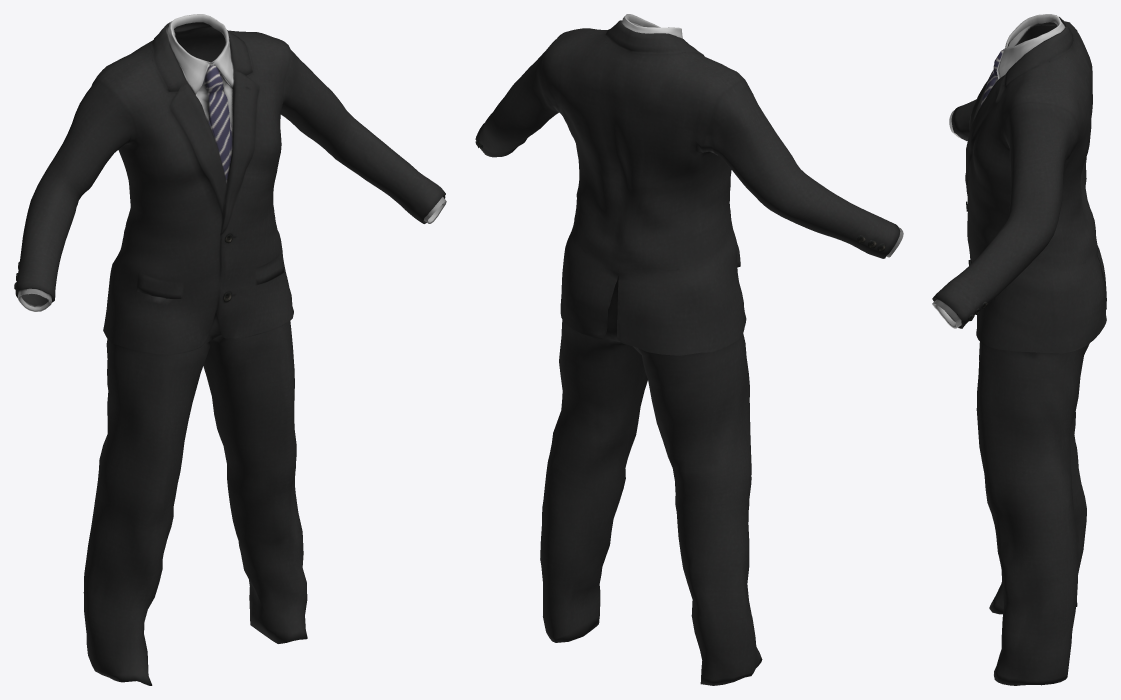
The model's file is suited_man_v2.glb.
3 views of the same model, side by side, from view 1: azimuth 30°, elevation 25°; view 2: azimuth 150°, elevation 25°; view 3: azimuth 270°, elevation 25° (orthographic). The views are drawn at different scales.
Parts seen in each view (by area): view 1: Human.male_elegantsuit01; view 2: Human.male_elegantsuit01; view 3: Human.male_elegantsuit01.
Boxes of the visible parts, x1,y1,x2,y2 form: Human.male_elegantsuit01: (14,14,446,685); Human.male_elegantsuit01: (475,14,903,685); Human.male_elegantsuit01: (932,14,1106,685).
Bounding box in the file's own units: 0.9815 × 1.4 × 0.3559.
1 material, 1 textured.
